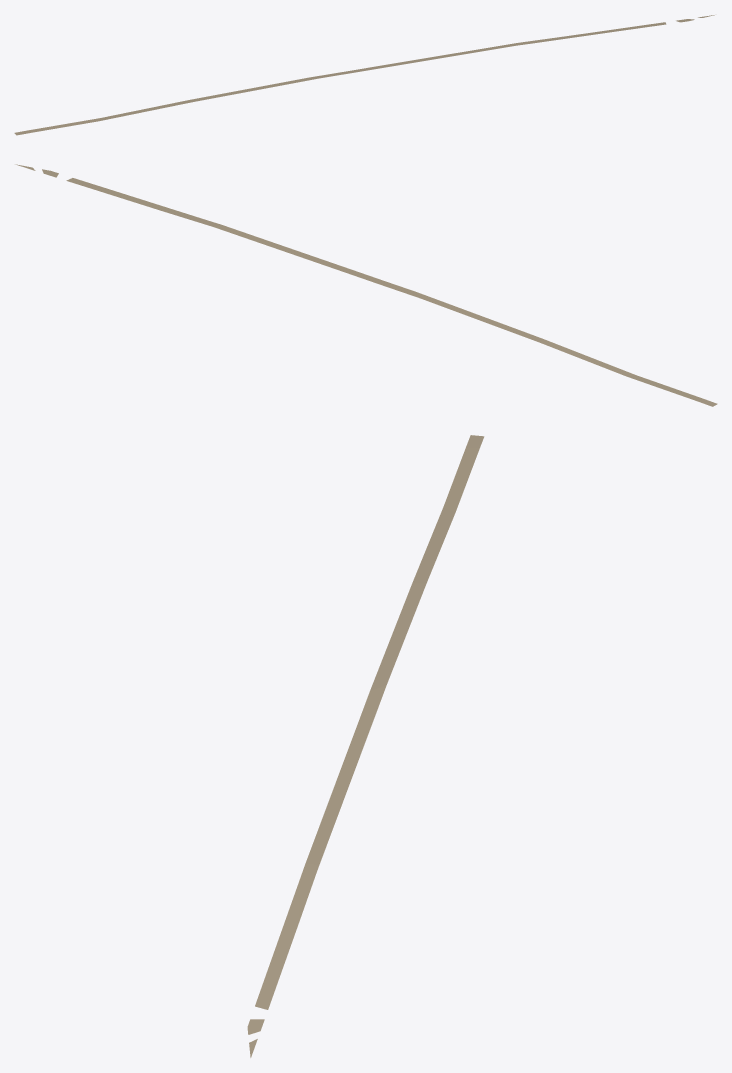
The model's file is farm_20_16_track.glb.
3 views of the same model, one above another, from view 1: azimuth 30°, elevation 25°; view 2: azimuth 150°, elevation 25°; view 3: azimuth 270°, elevation 25° (orthographic). The views are drawn at different scales.
Visible parts, largest first — view 1: geometry_0; view 2: geometry_0; view 3: geometry_0.
Part boxes in pixels (<box>): geometry_0: <box>14,15,714,135</box>; geometry_0: <box>15,164,717,406</box>; geometry_0: <box>247,435,484,1057</box>.
Size of the model in its own units: 350 by 4.4 by 55.59.
